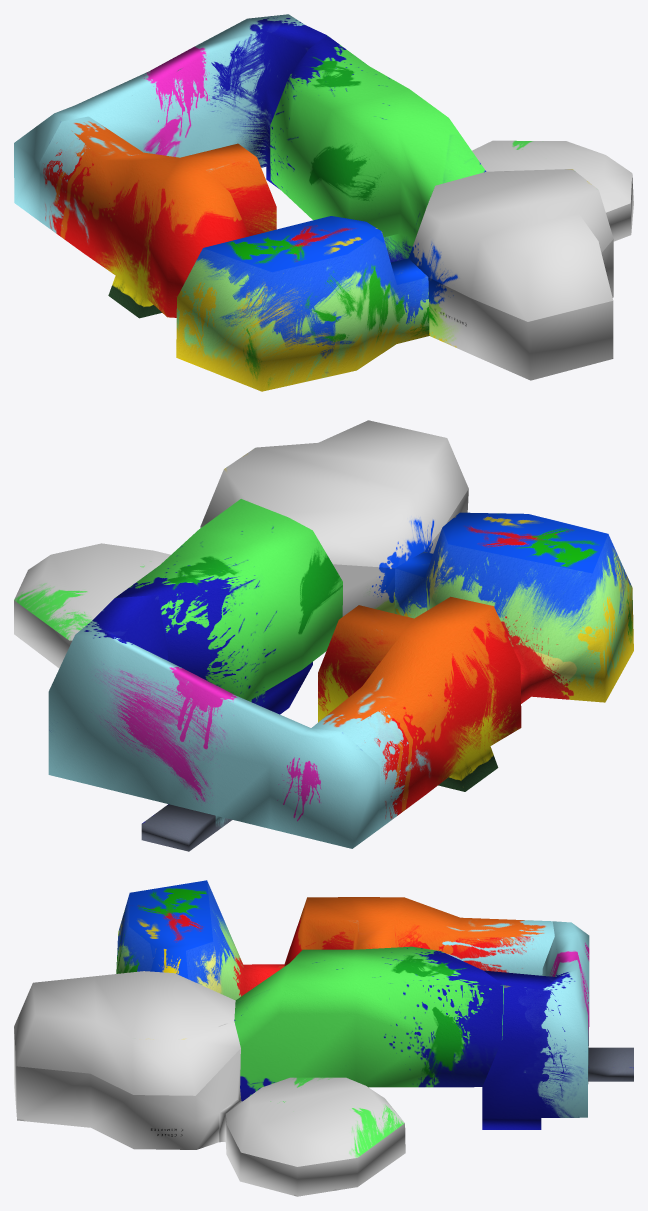
Rendered from Level1Final.fbx.
3 renders of one model, top to bottom at view 1: azimuth 30°, elevation 25°; view 2: azimuth 150°, elevation 25°; view 3: azimuth 270°, elevation 25°, orthographic. The views are drawn at different scales.
Visible parts, largest first — view 1: ersterRaum, raum1, raum2, raum4, raum3, letzter_raum; view 2: raum3, raum2, raum1, raum4, ersterRaum, letzter_raum; view 3: ersterRaum, raum4, raum3, letzter_raum, raum2, raum1.
Part boxes in pixels (x1=…): ersterRaum: x1=408, y1=169, x2=613, y2=380; raum1: x1=176, y1=216, x2=429, y2=391; raum2: x1=39, y1=116, x2=276, y2=318; raum4: x1=270, y1=35, x2=486, y2=262; raum3: x1=14, y1=14, x2=326, y2=221; letzter_raum: x1=426, y1=140, x2=633, y2=241; raum3: x1=48, y1=595, x2=379, y2=851; raum2: x1=311, y1=596, x2=521, y2=828; raum1: x1=394, y1=512, x2=633, y2=703; raum4: x1=115, y1=499, x2=342, y2=714; ersterRaum: x1=200, y1=420, x2=468, y2=616; letzter_raum: x1=14, y1=543, x2=170, y2=668; ersterRaum: x1=14, y1=971, x2=241, y2=1149; raum4: x1=234, y1=946, x2=503, y2=1101; raum3: x1=482, y1=921, x2=633, y2=1129; letzter_raum: x1=219, y1=1077, x2=405, y2=1196; raum2: x1=284, y1=897, x2=554, y2=975; raum1: x1=116, y1=880, x2=284, y2=1000.
Bounding box in the file's own units: 34.92 × 12.94 × 40.72.
